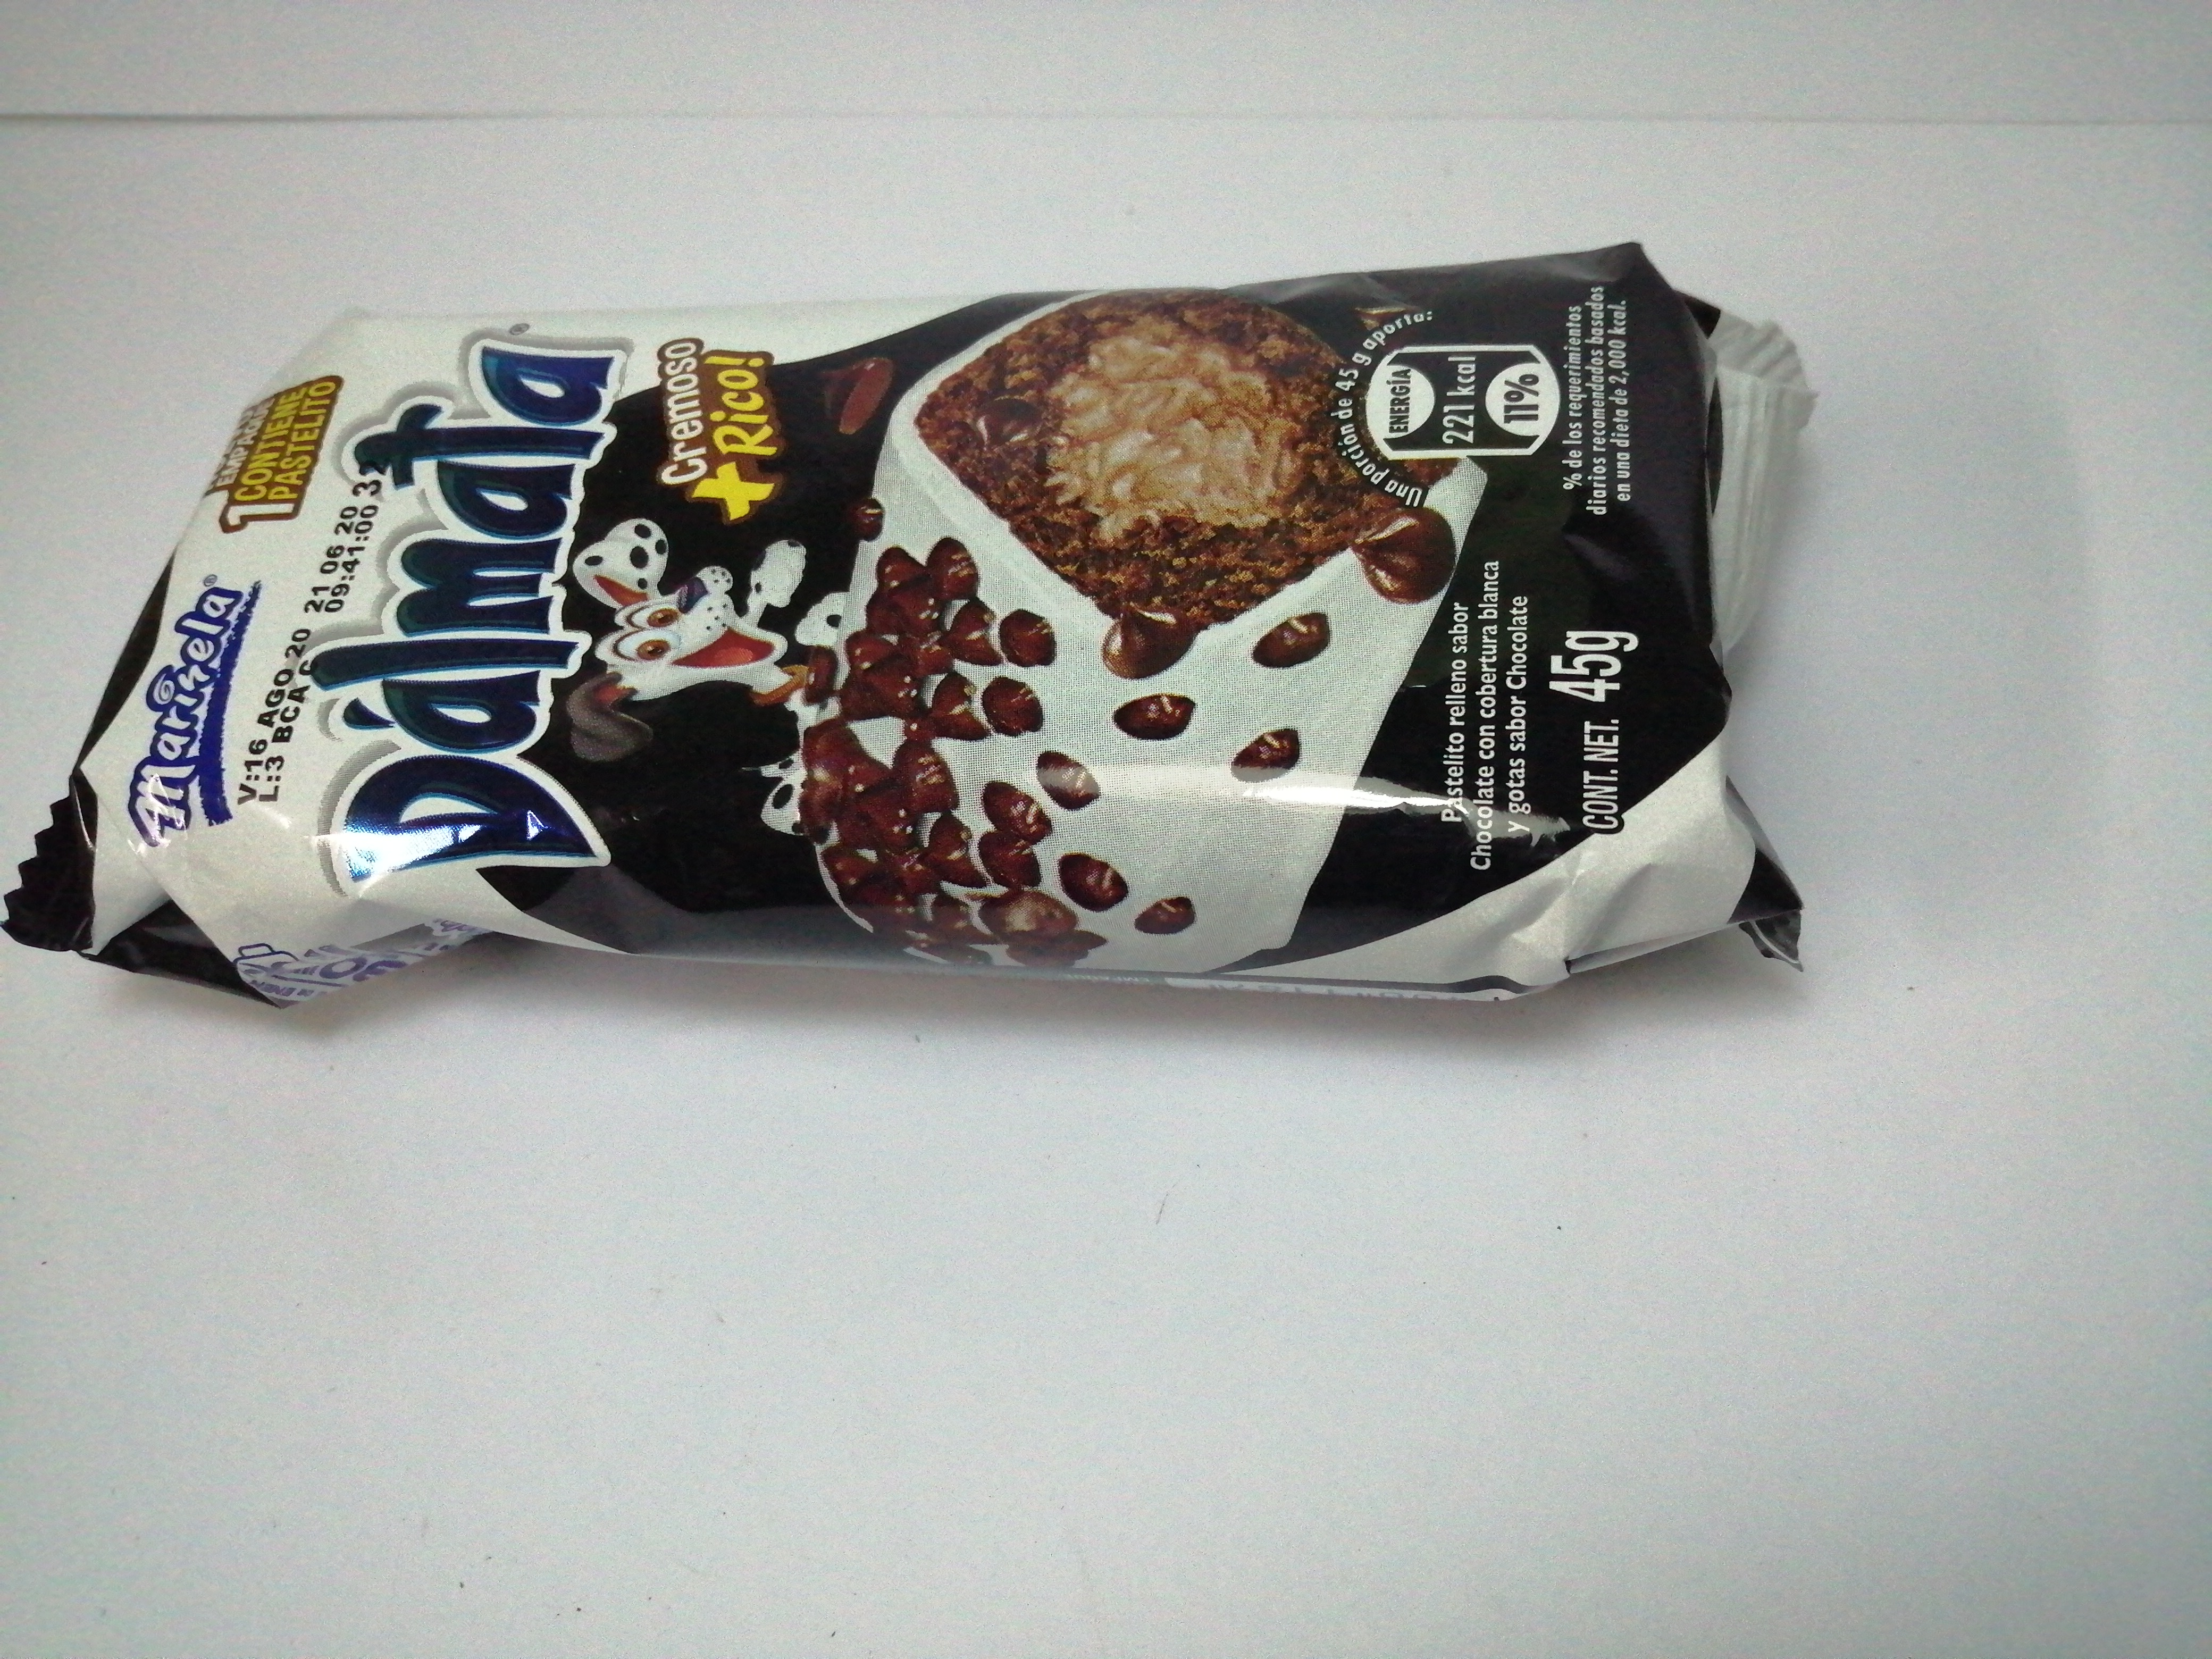dalmata: (21, 223, 1836, 1065)
